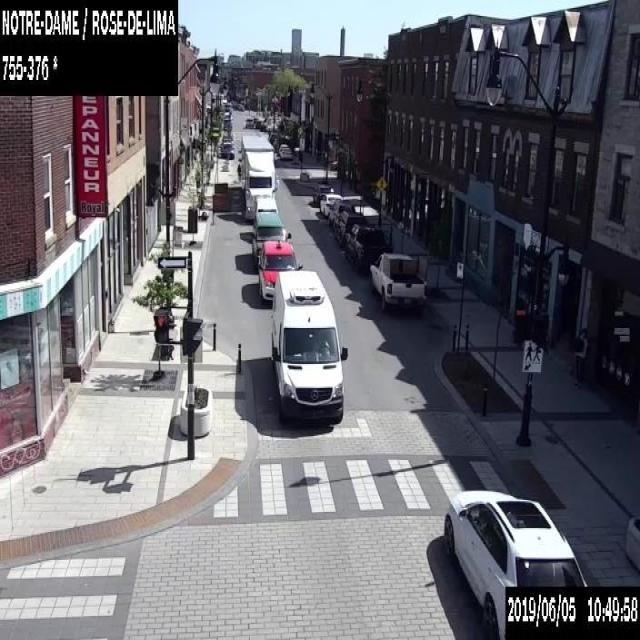vehicle: (443, 488, 586, 638), (270, 268, 348, 420), (370, 252, 426, 310), (240, 134, 278, 218), (258, 240, 302, 300), (251, 211, 291, 258), (346, 223, 388, 266), (336, 211, 363, 248), (327, 203, 355, 234), (319, 194, 341, 215), (312, 184, 332, 203), (255, 197, 277, 213), (219, 142, 234, 158), (280, 147, 291, 159), (245, 116, 253, 128), (272, 138, 280, 150), (278, 144, 287, 154), (328, 159, 337, 169), (268, 132, 277, 142), (224, 102, 231, 113), (222, 137, 232, 143), (260, 122, 266, 130), (255, 120, 261, 127), (221, 98, 226, 104)
